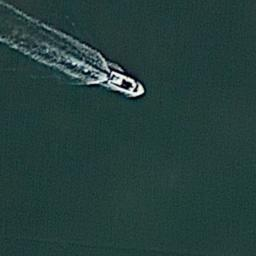boat: (104, 68, 146, 98)
